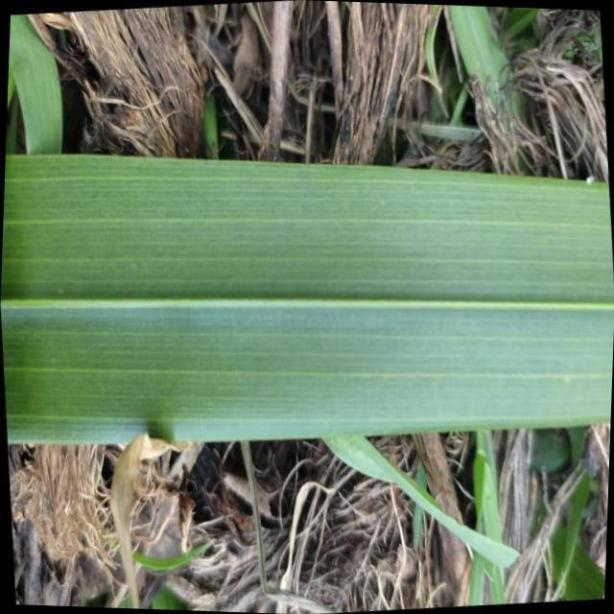Healthy: (1, 156, 614, 444)
